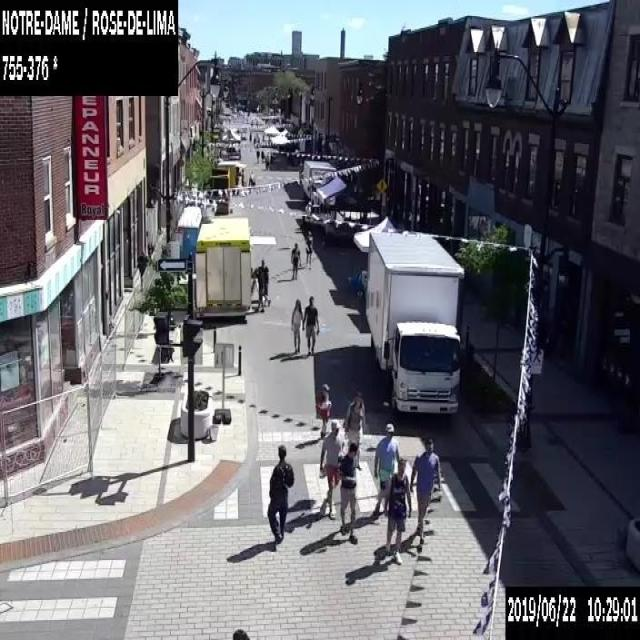pedestrian: (409, 438, 441, 543), (266, 444, 294, 549), (383, 457, 410, 563), (318, 418, 344, 518), (373, 423, 399, 514), (339, 440, 358, 545), (344, 392, 364, 469), (303, 294, 318, 355), (315, 382, 330, 437), (290, 297, 302, 354), (289, 241, 300, 280), (255, 265, 264, 312), (304, 230, 312, 268), (264, 264, 270, 306), (231, 626, 251, 638), (248, 170, 254, 187), (264, 150, 269, 169), (240, 167, 244, 185), (255, 148, 259, 162), (260, 148, 264, 161)
vehicle: (364, 230, 461, 415)
